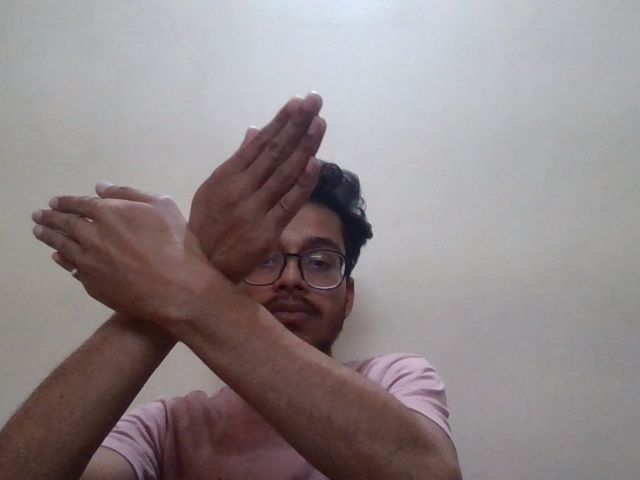feel: (20, 82, 329, 359)
